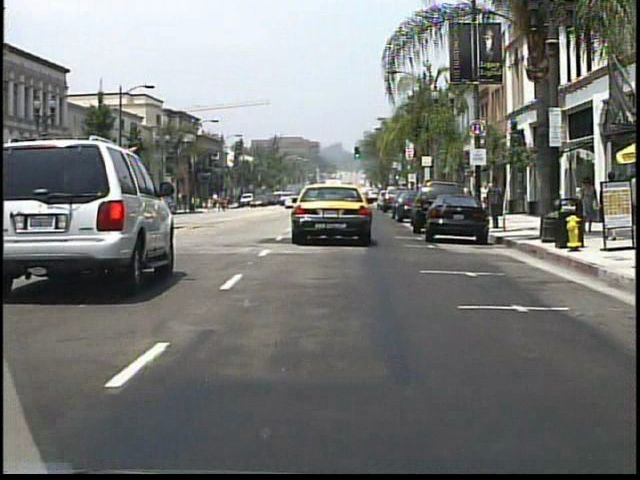person: (600, 169, 622, 242), (581, 175, 598, 236), (481, 180, 491, 215), (237, 194, 244, 210)
